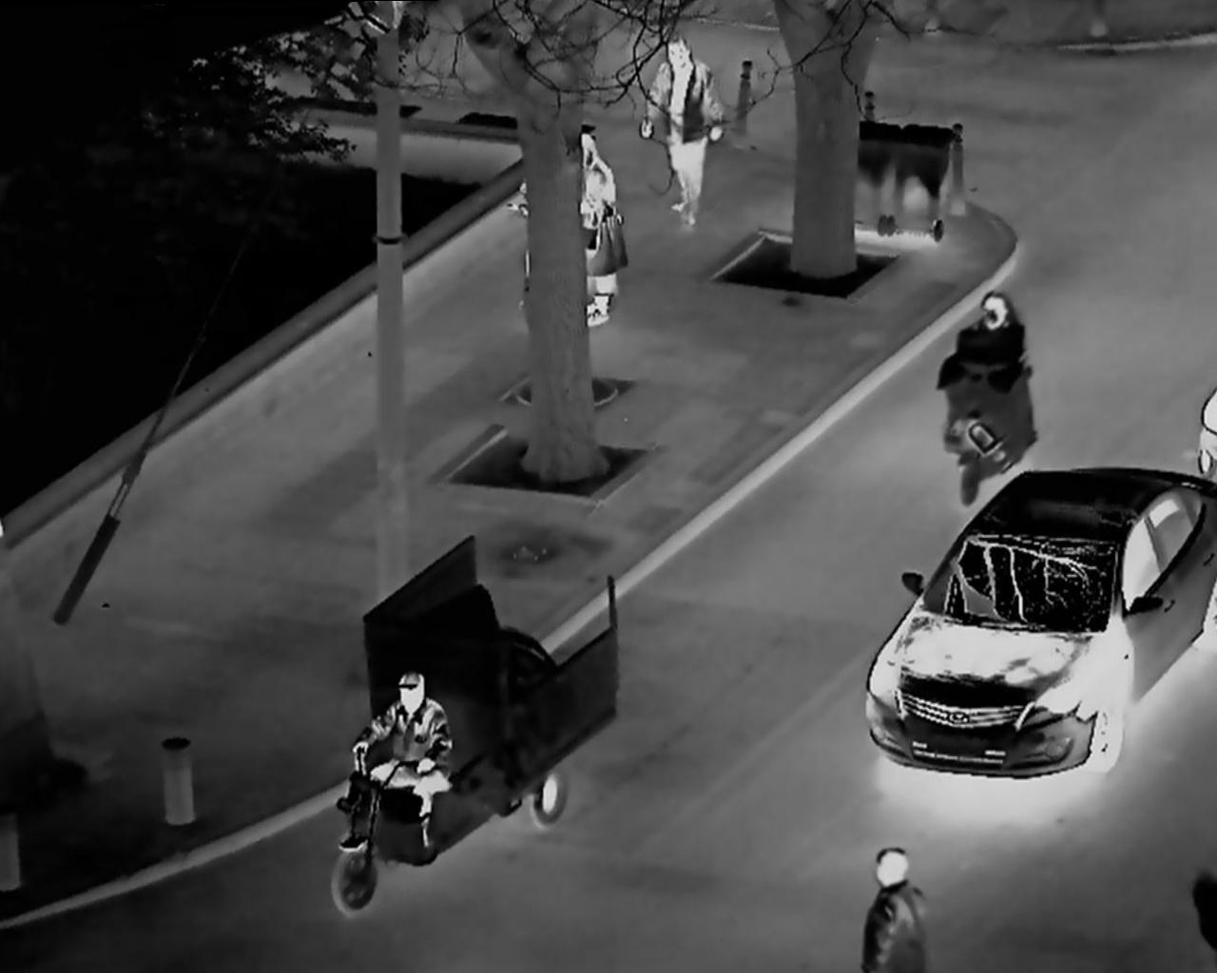person: (922, 274, 1050, 511), (347, 651, 461, 863), (638, 30, 725, 242), (568, 123, 638, 340), (842, 828, 936, 973)
